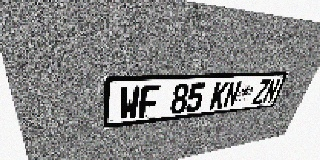5: (185, 83, 206, 113)
8: (169, 83, 191, 115)
F: (139, 85, 160, 118)
K: (209, 82, 230, 110)
N: (222, 81, 242, 108), (261, 79, 281, 104)
W: (119, 86, 141, 121)
Z: (251, 80, 271, 105)
